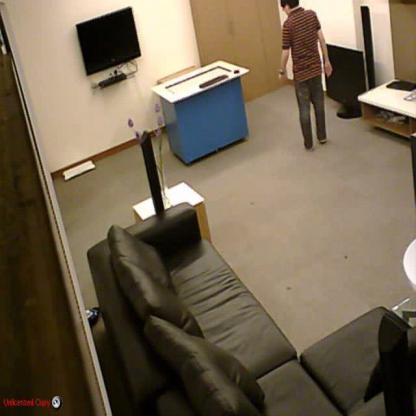Person: (278, 0, 331, 152)
